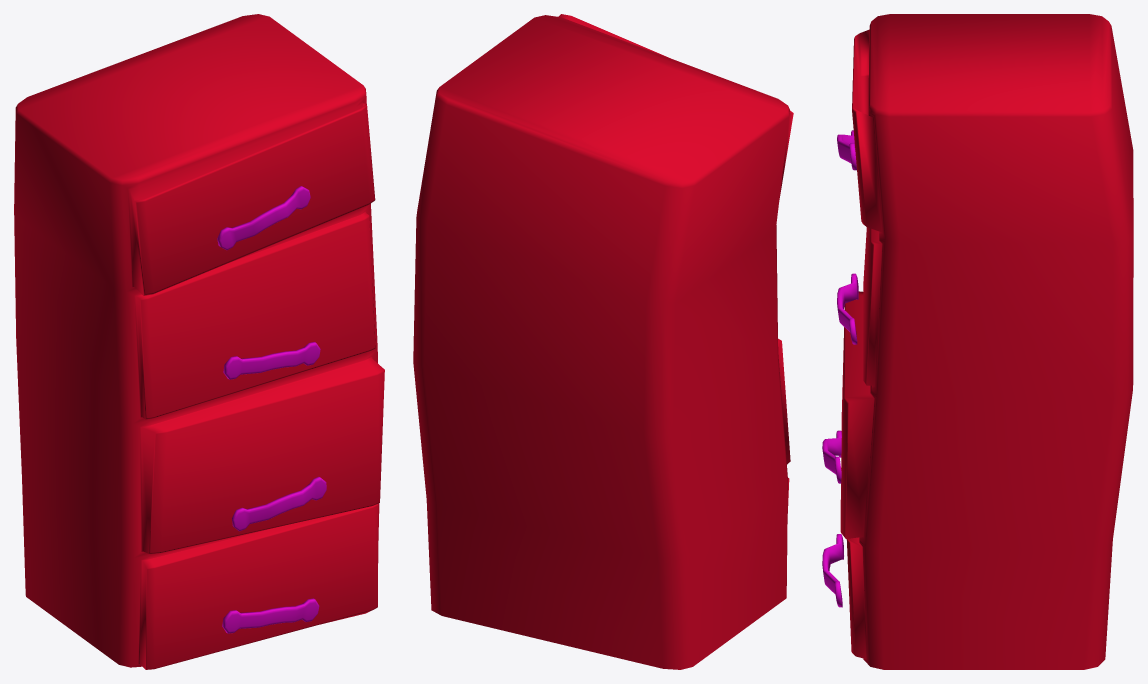
Rendered from SM_Shelf.fbx.
3 views of the same model, side by side, from view 1: azimuth 30°, elevation 25°; view 2: azimuth 150°, elevation 25°; view 3: azimuth 270°, elevation 25° (orthographic). The views are drawn at different scales.
Visible parts, largest first — view 1: SM_Shelf; view 2: SM_Shelf; view 3: SM_Shelf.
Part boxes in pixels (x1,y1,x2,y2): SM_Shelf: (14,14,384,669); SM_Shelf: (413,14,793,669); SM_Shelf: (822,14,1133,669).
Bounding box in the file's own units: 73.17 × 135 × 68.87.
